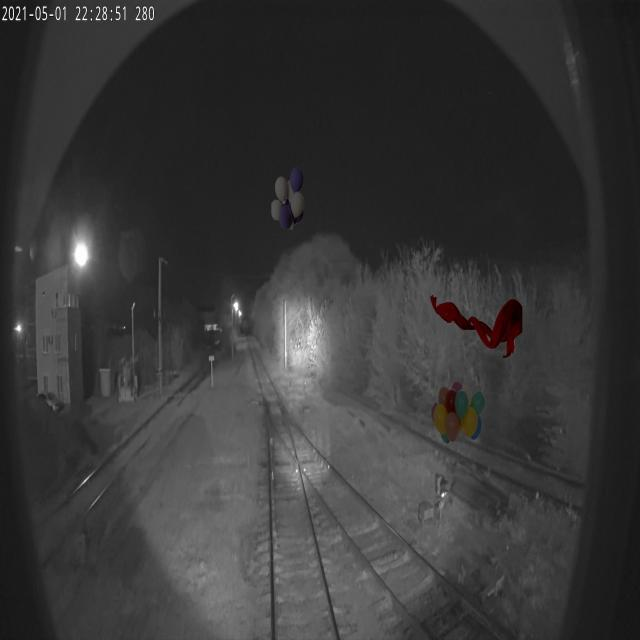balloon: (430, 380, 484, 444), (271, 166, 305, 230)
floating object: (429, 294, 522, 358)
